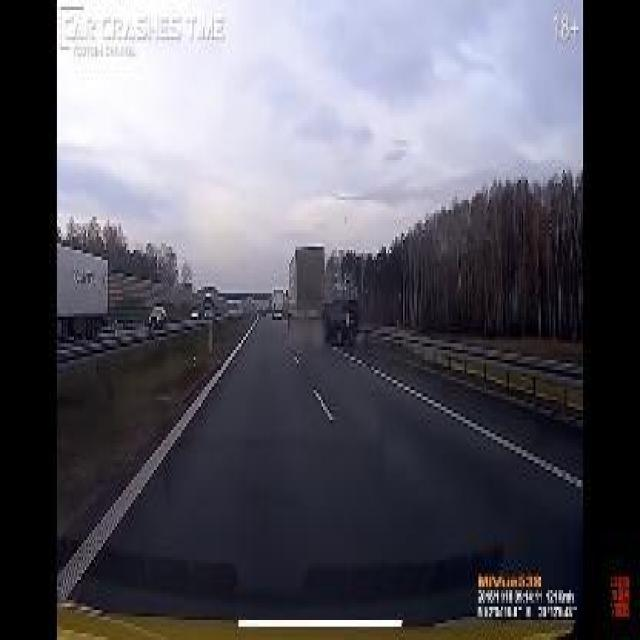accident: (284, 240, 365, 347)
